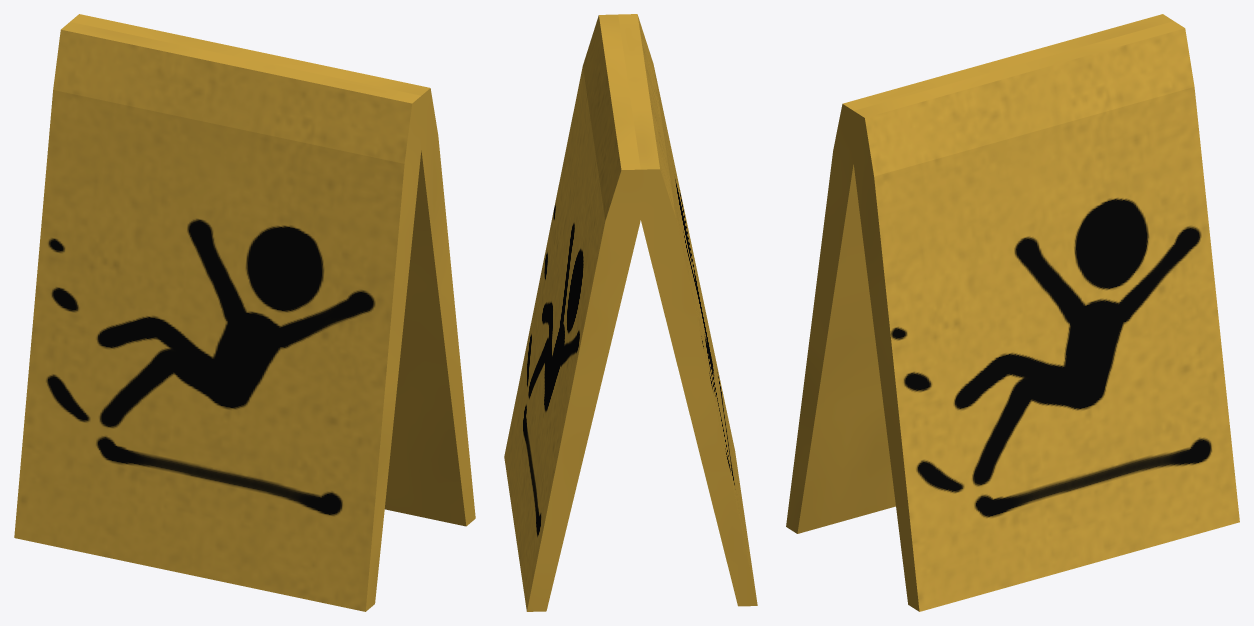
File: SM_cartelAgua.fbx
The picture shows the model from 3 angles, left to right: view 1: azimuth 30°, elevation 25°; view 2: azimuth 150°, elevation 25°; view 3: azimuth 270°, elevation 25°; orthographic projection. The views are drawn at different scales.
Visible parts, largest first — view 1: Cube.006; view 2: Cube.006; view 3: Cube.006.
Part boxes in pixels (x1,y1,x2,y2): Cube.006: (14,14,475,611); Cube.006: (504,14,757,611); Cube.006: (786,14,1239,611).
Size of the model in its own units: 153 by 188 by 168.
